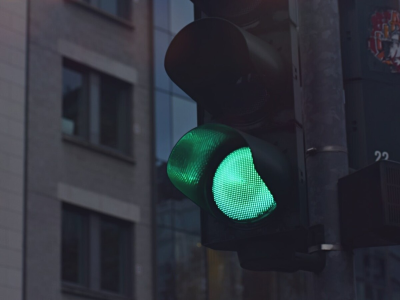trafficlight_green: (171, 10, 279, 230)
